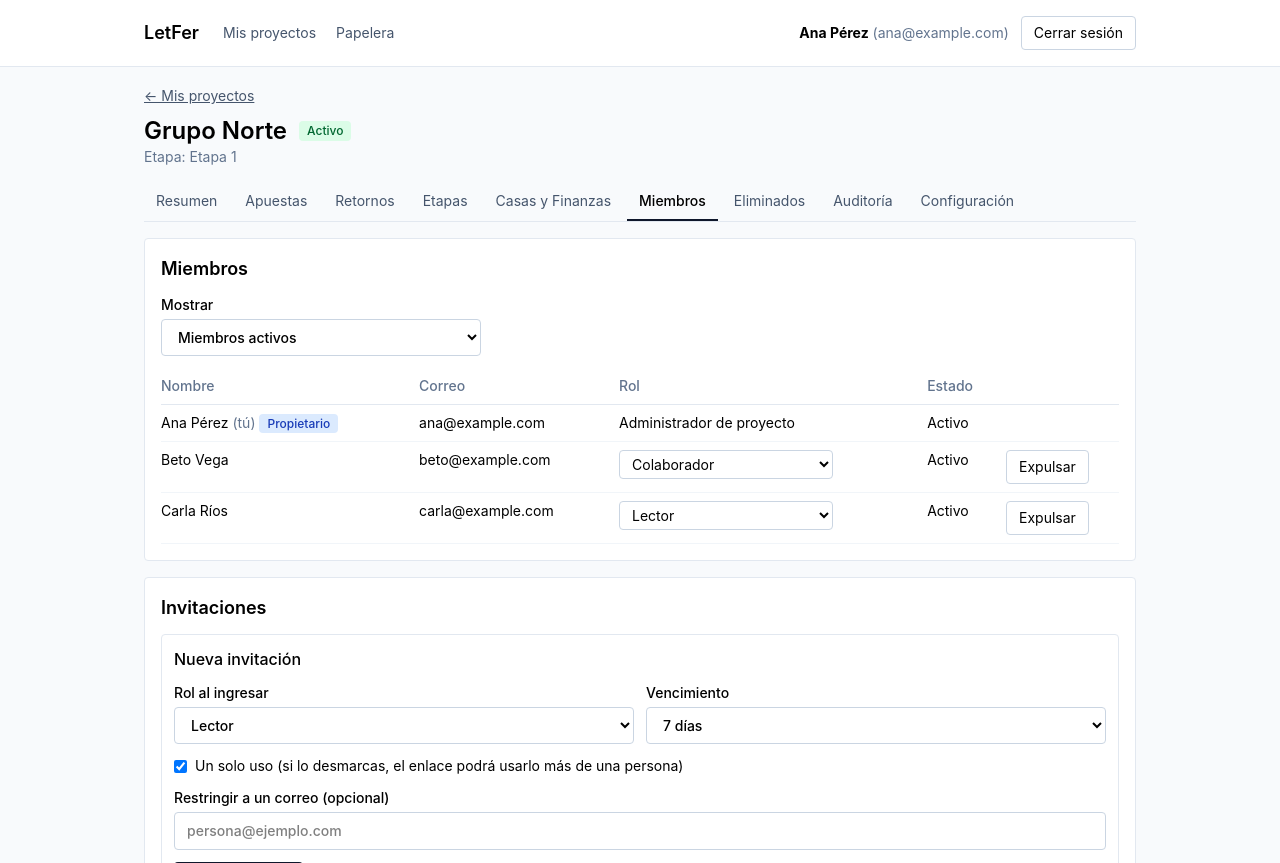
Test: miembros › cambio de rol › envía el rol elegido con la versión de la membresía y recarga la lista
Select "Lector" in the dropdown named "Rol de Beto Vega": (726, 464) top-left (619, 450), bottom-right (833, 479)
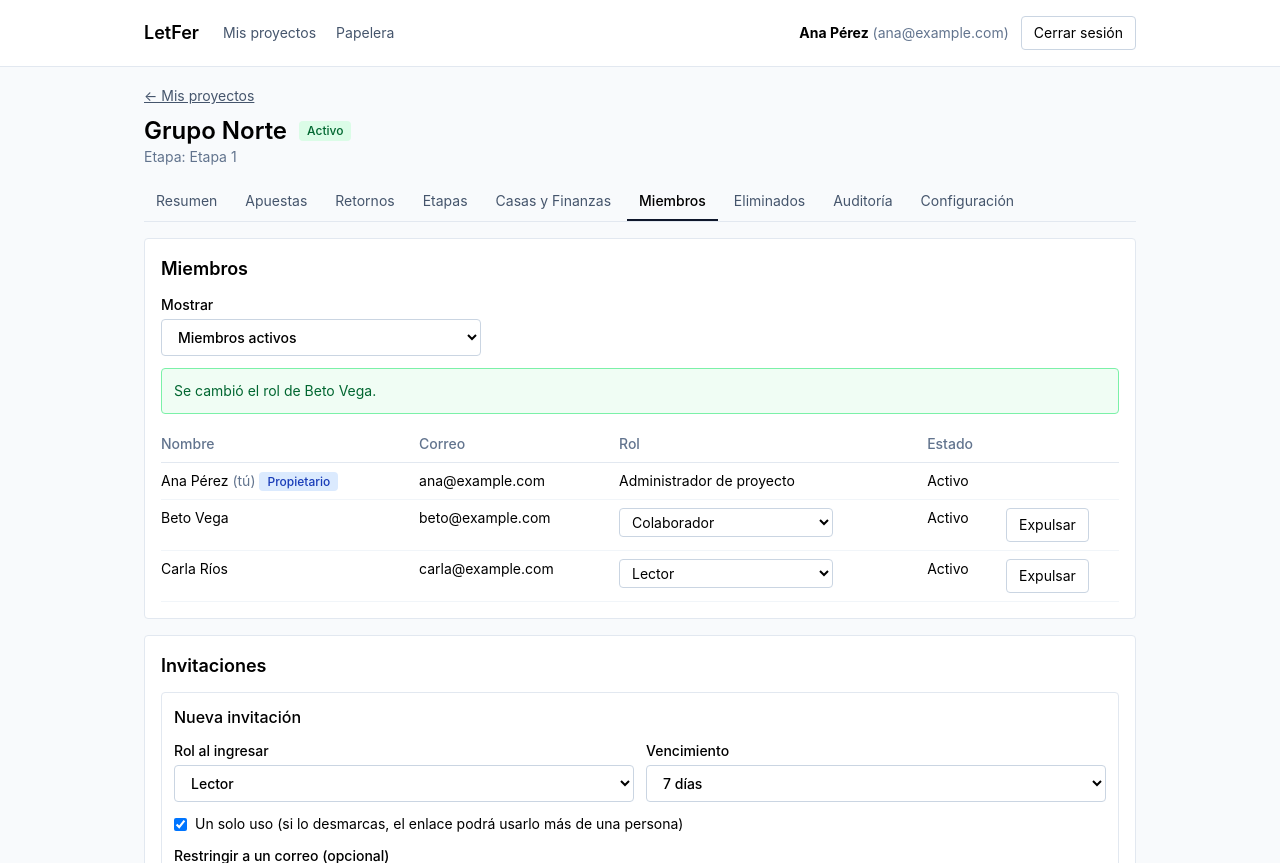
Result: the text "Se cambió el rol de Beto Vega." is shown at top-left (161, 368), bottom-right (1119, 414)
